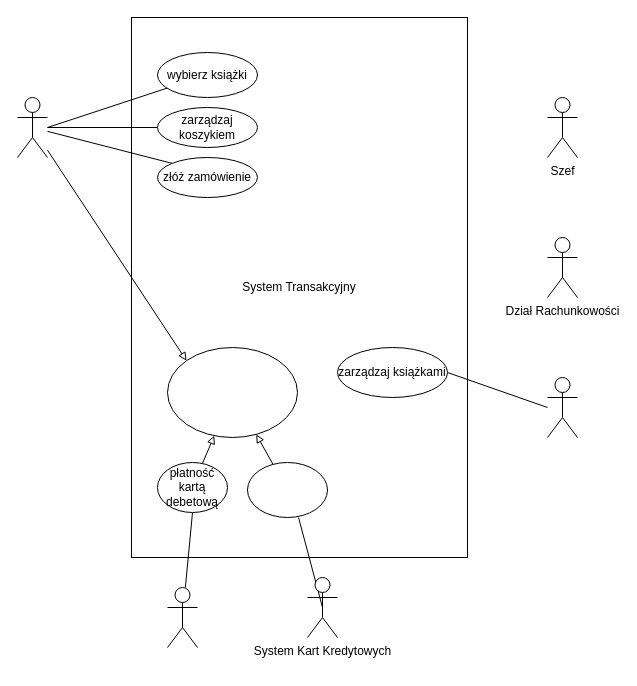
The diagram is 637 pixels wide and 686 high, and some of its shapes have lost their labels. The centre of each missing label's shape, as x and y in pixels:
"Klient" goes at point 32,127.
"Operator Systemu" goes at point 562,407.
"płatność kartą kredytową" goes at point 287,490.
"realizuj płatność" goes at point 232,392.
"System Bankowy" goes at point 182,617.
